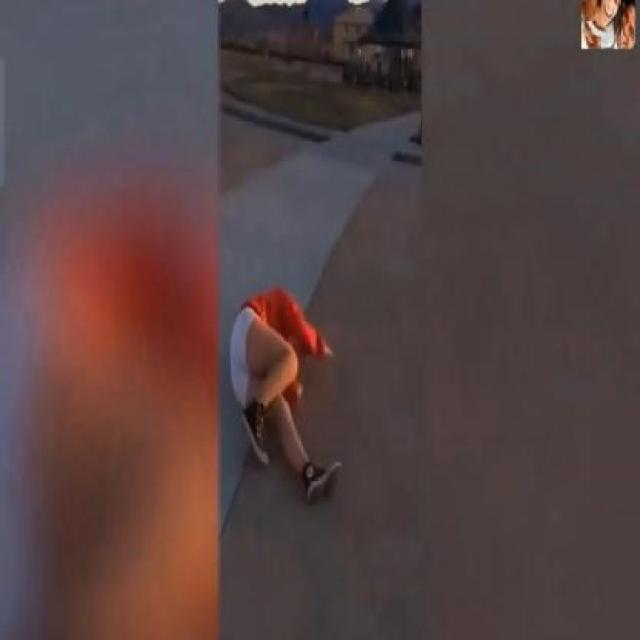fall: (231, 288, 347, 512)
